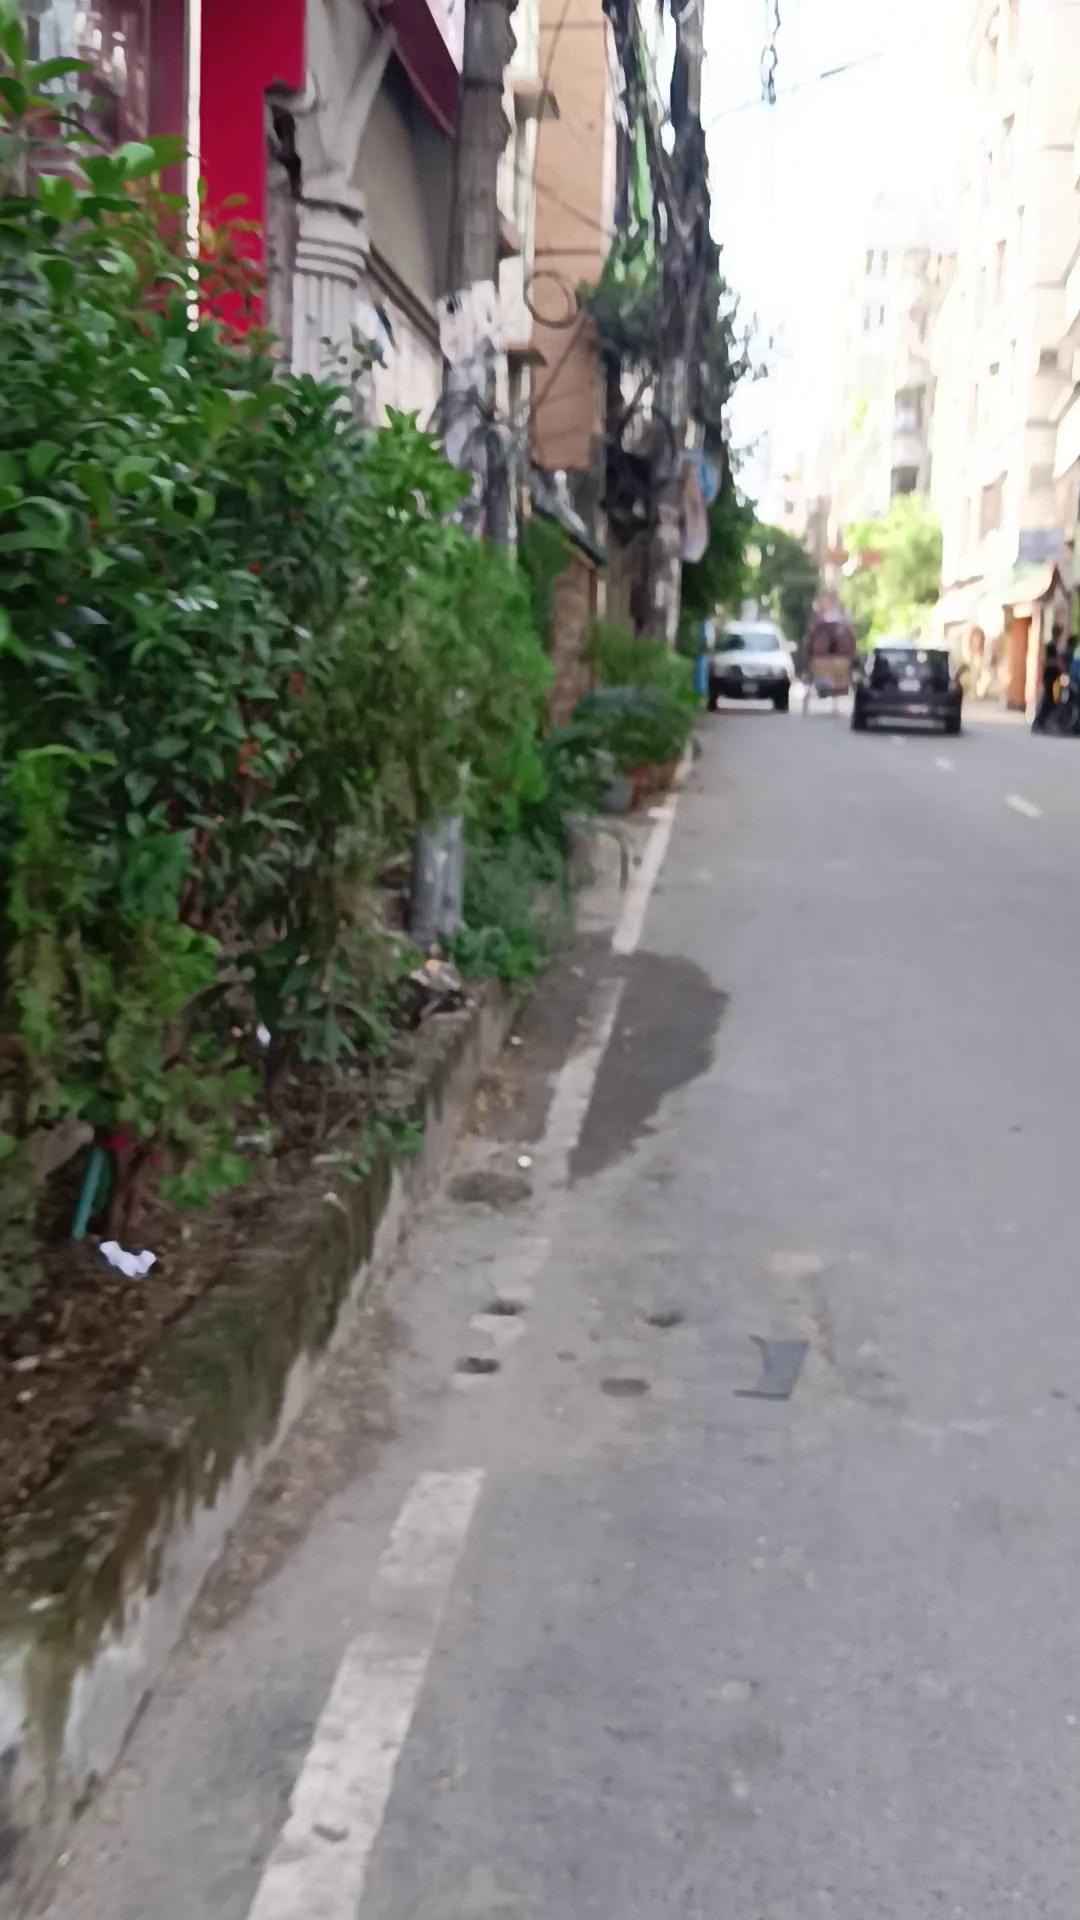Bollard: (849, 645, 963, 735), (704, 618, 796, 712)
Broken-road: (0, 928, 525, 1920)
Dog: (406, 0, 521, 955)
Fallen-tree: (570, 615, 702, 814)
